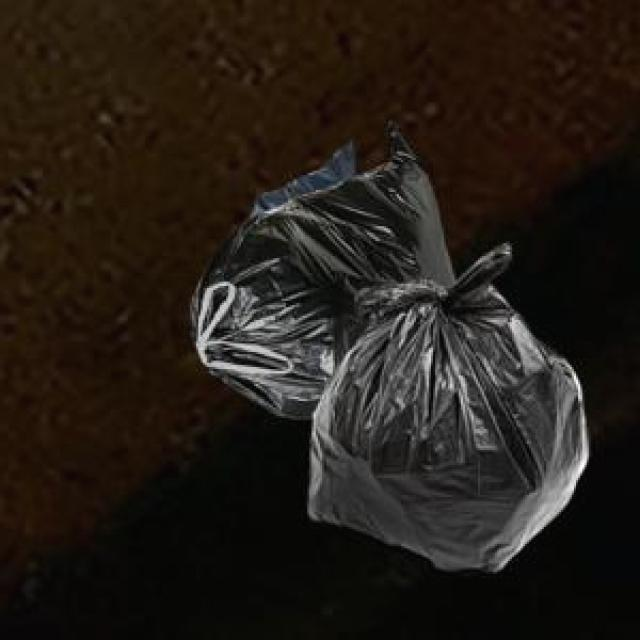Trashbag: (294, 244, 600, 585)
